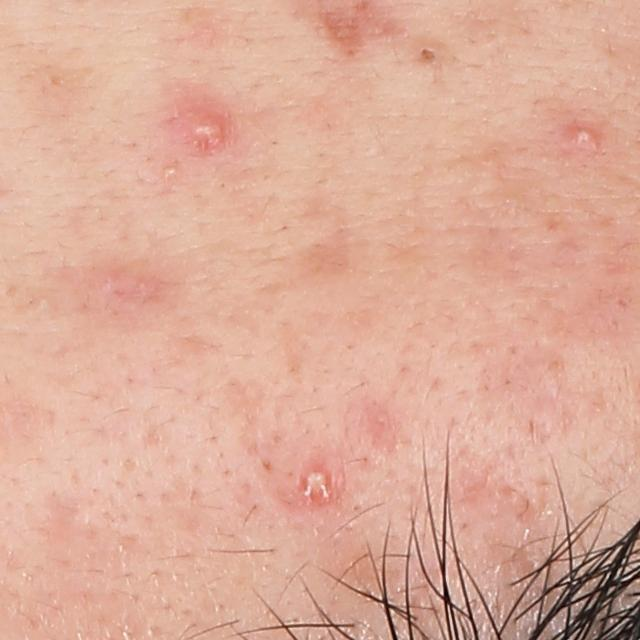comedo: (418, 44, 437, 62)
pustule: (174, 101, 228, 157), (292, 462, 340, 507), (567, 121, 601, 152)
